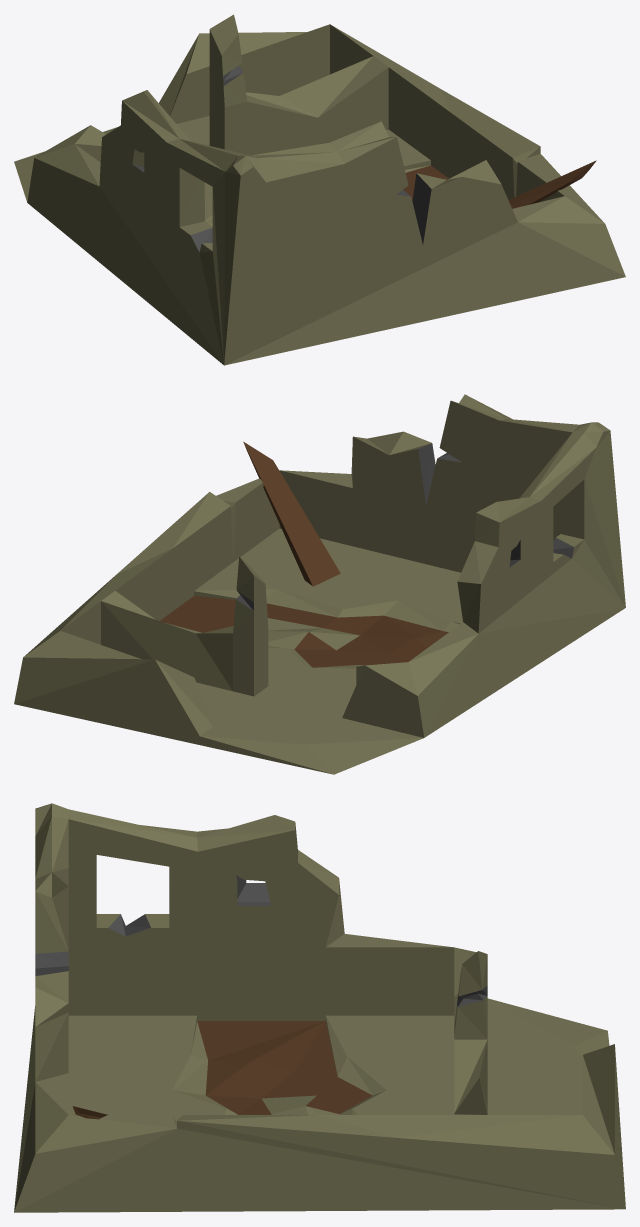
3 views of the same model, one above another, from view 1: azimuth 30°, elevation 25°; view 2: azimuth 150°, elevation 25°; view 3: azimuth 270°, elevation 25° (orthographic). The views are drawn at different scales.
Visible parts, largest first — view 1: Box001; view 2: Box001; view 3: Box001.
Part boxes in pixels (x1,y1,x2,y2): Box001: (14,14,625,365); Box001: (14,394,625,774); Box001: (14,803,625,1212).
Bounding box in the file's own units: 8018 × 9901 × 3941.
